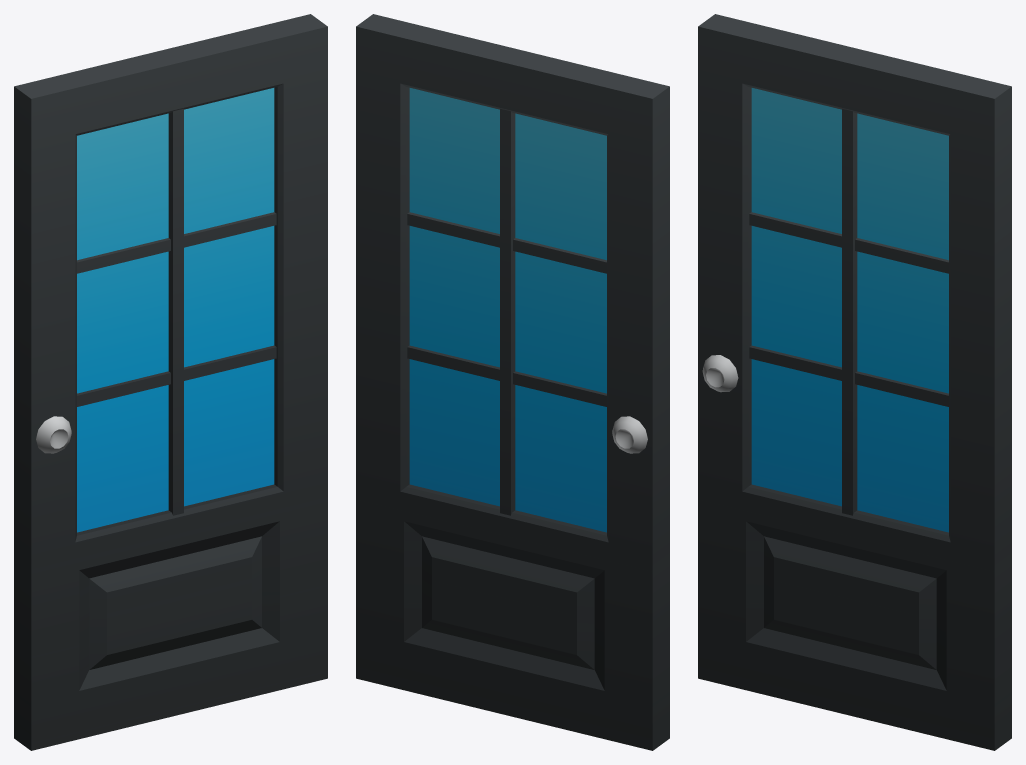
Rendered from Door_Black_01.glb.
3 renders of one model, left to right at view 1: azimuth 30°, elevation 25°; view 2: azimuth 150°, elevation 25°; view 3: azimuth 330°, elevation 25°, orthographic.
Parts seen in each view (by area): view 1: Door_Black_01; view 2: Door_Black_01; view 3: Door_Black_01.
Part boxes in pixels (<box>): Door_Black_01: <box>14,14,327,750</box>; Door_Black_01: <box>356,14,669,750</box>; Door_Black_01: <box>698,14,1011,750</box>.
Bounding box in the file's own units: 1 × 2.1 × 0.1634.
2 materials, 2 textured.
